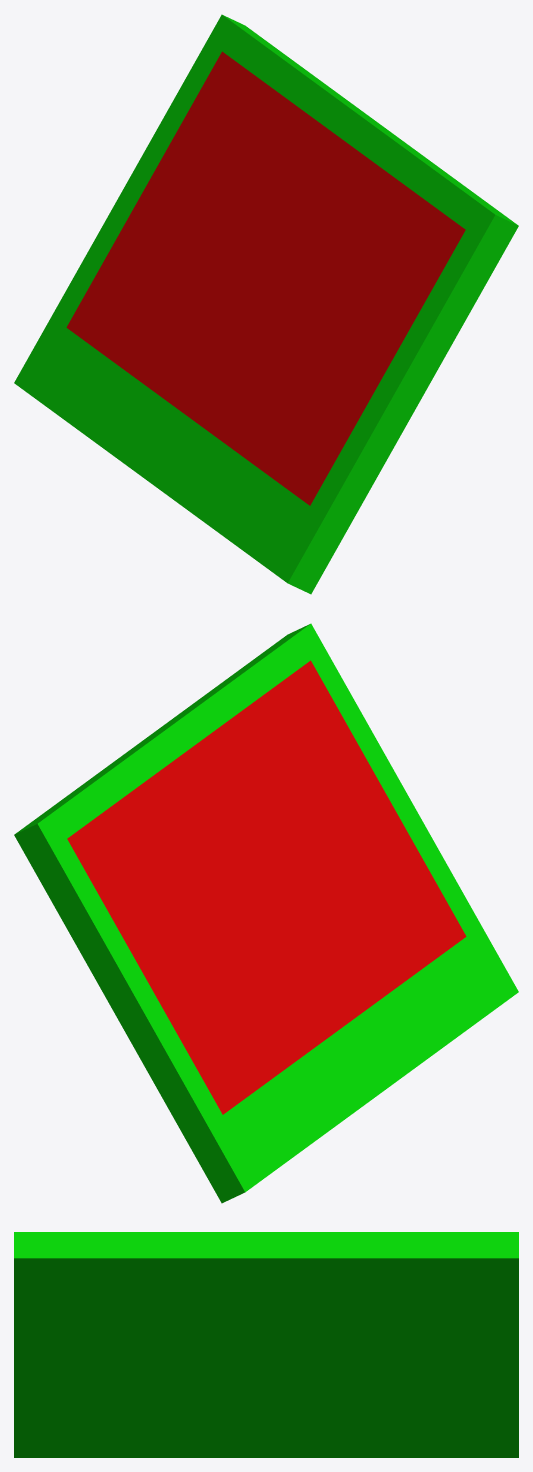
The model's file is Server Computer Monitor.fbx.
The picture shows the model from 3 angles, top to bottom: view 1: azimuth 30°, elevation 25°; view 2: azimuth 150°, elevation 25°; view 3: azimuth 270°, elevation 25°; orthographic projection. The views are drawn at different scales.
Visible parts, largest first — view 1: Cube.020; view 2: Cube.020; view 3: Cube.020.
Boxes of the visible parts, x1=… form: Cube.020: x1=14, y1=14, x2=518, y2=594; Cube.020: x1=14, y1=623, x2=518, y2=1203; Cube.020: x1=14, y1=1232, x2=518, y2=1457.
Bounding box in the file's own units: 15.7 × 21.7 × 32.16.
